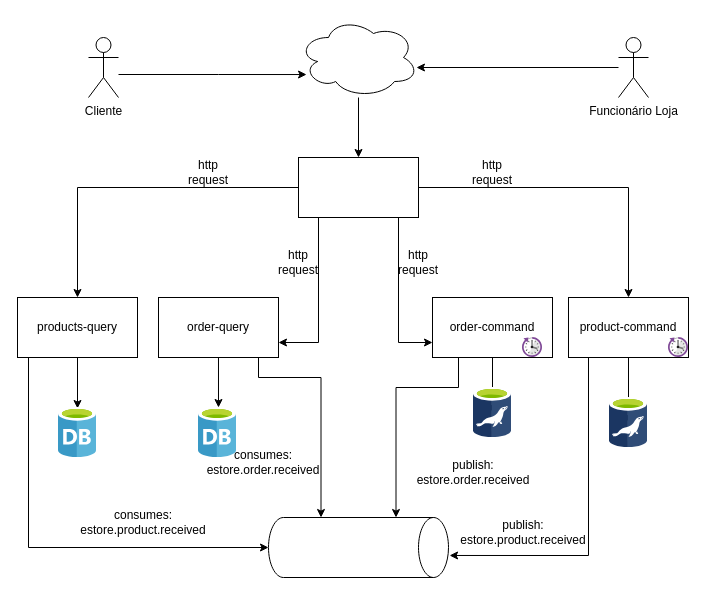
This 706x595 diagram has some shape labels left out. The centre of each missing label's shape, as x and y in pixels:
bff: [358,187]
Internet: [358,57]
RabbitMq: [358,547]
